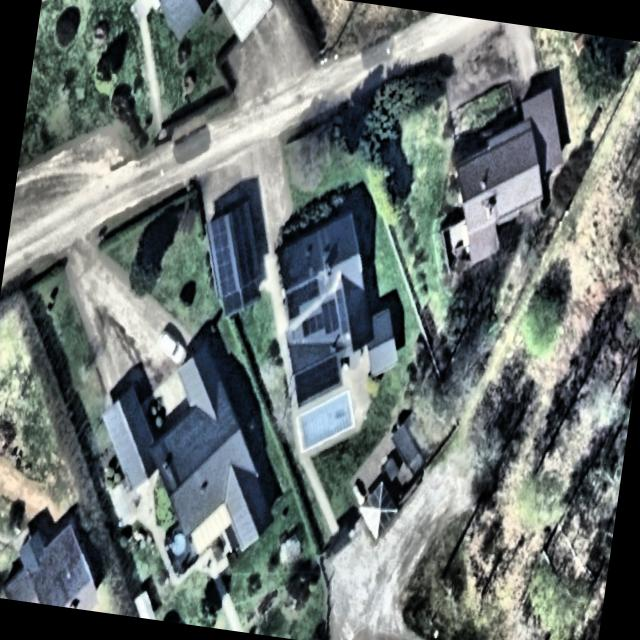roof_pv: (300, 292, 345, 341), (284, 272, 324, 324), (208, 252, 242, 297), (207, 212, 236, 255), (230, 245, 260, 285), (225, 208, 253, 250), (238, 282, 262, 306), (224, 290, 246, 316)
